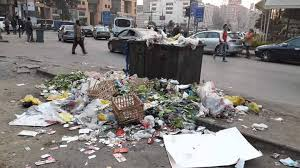garbage: (98, 84, 225, 154), (57, 72, 175, 138), (131, 87, 245, 128), (23, 97, 195, 124), (163, 136, 260, 163)
